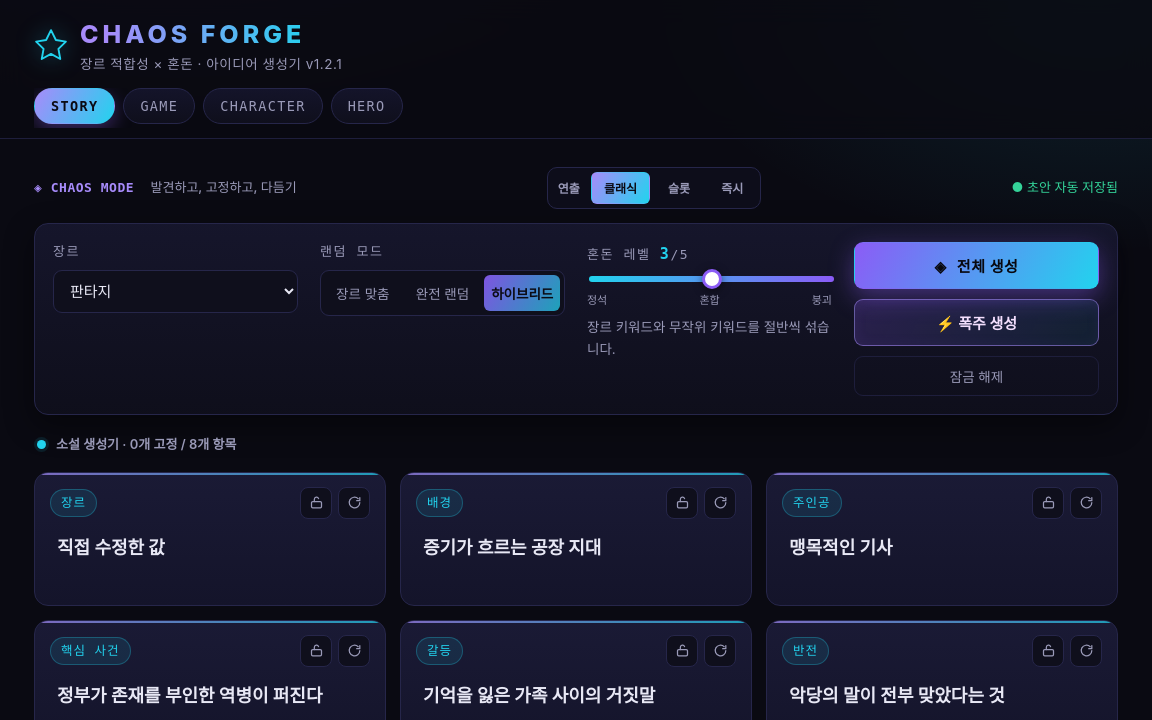
Test case: CHAOS FORGE UI › 직접 수정한 값이 탭을 옮겼다 돌아와도 유지된다
Click the tab "GAME": (159, 106) [123,88,195,124]
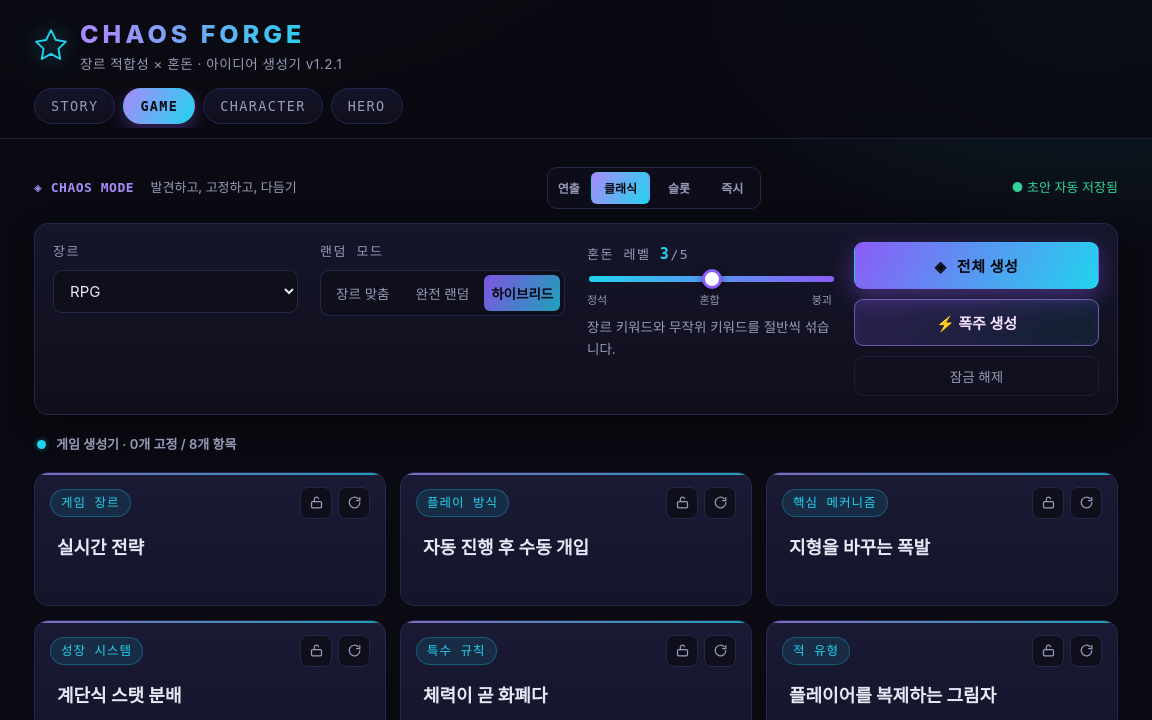
Click the tab "STORY": (75, 106) [34,88,115,124]
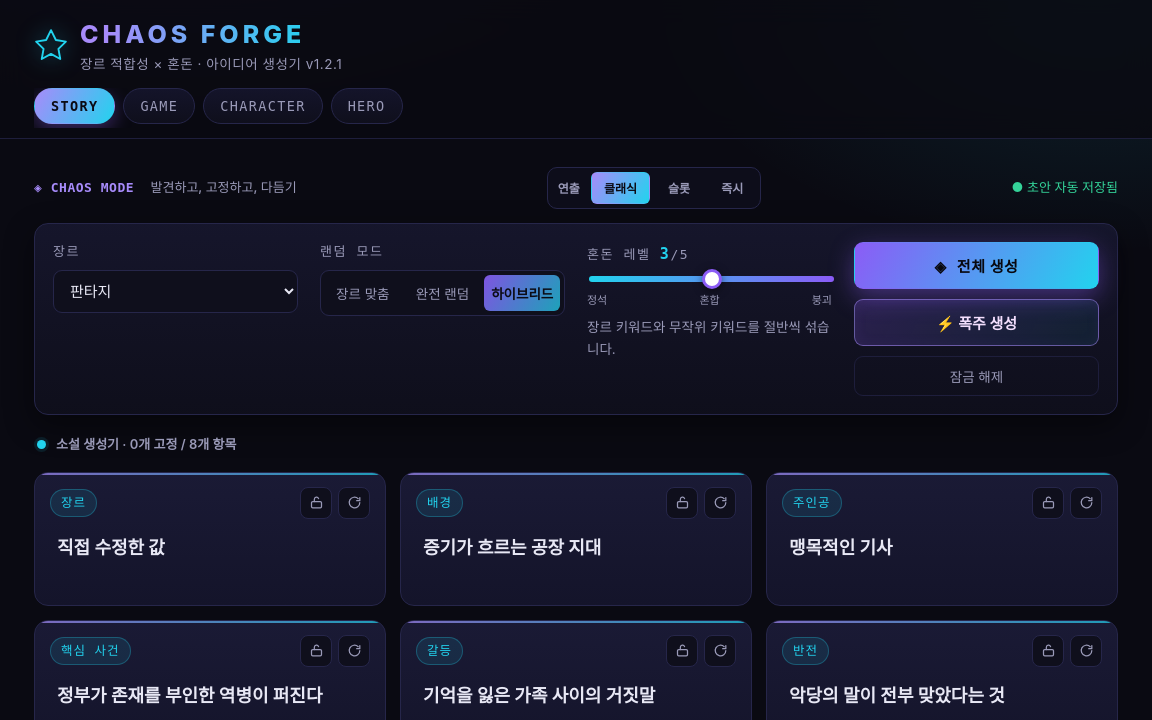
Expected: the field with class "card-value" reads "직접 수정한 값", [57,537,165,558]
